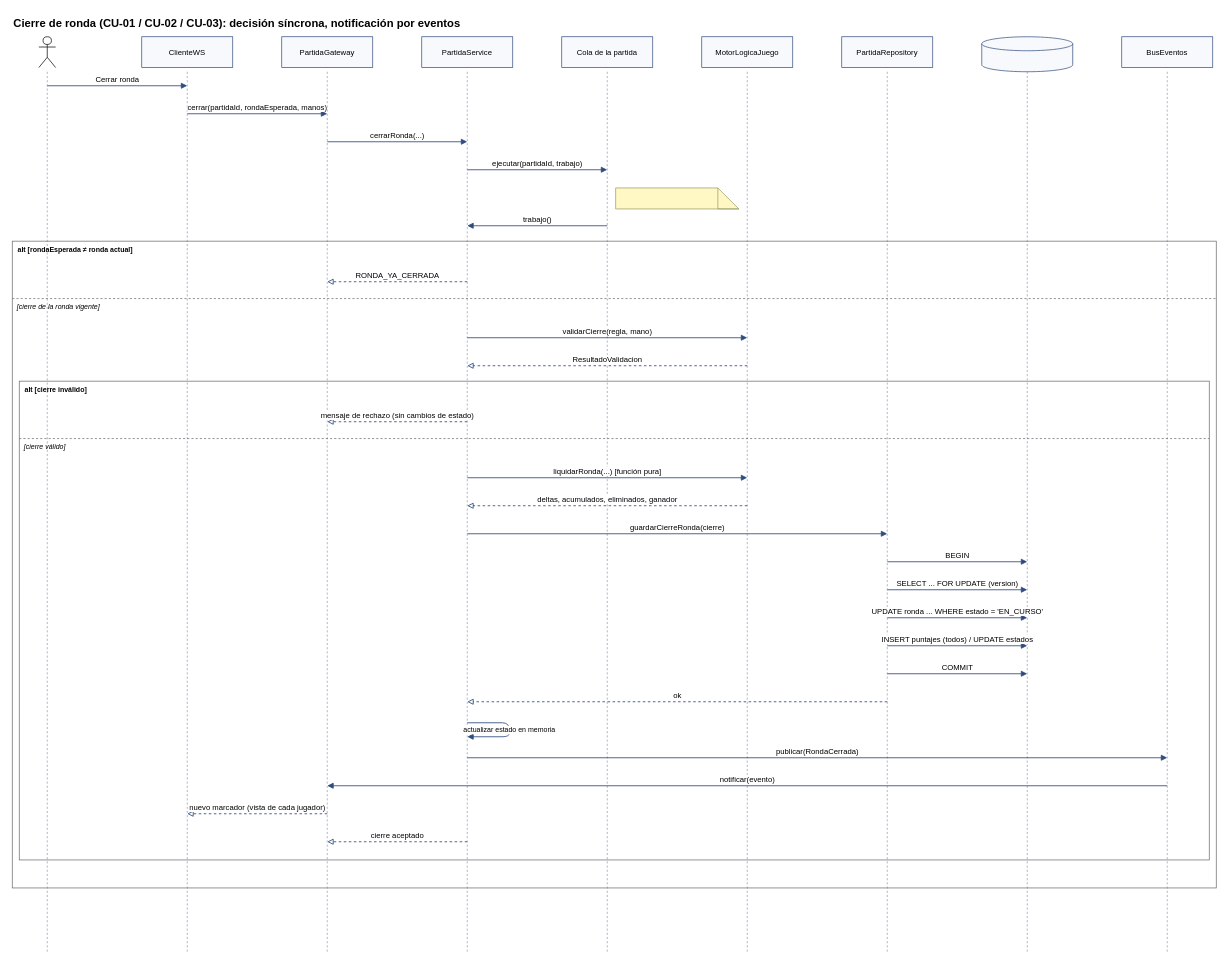
Some shapes in this 1229 by 967 pixel diagram are drawn without their labels. The shapes that lost their labels are listed below. From the top down, each one's centre as x and y in pixels, then its label:
At point 47,52: "Jugador".
At point 1027,54: "PostgreSQL".
At point 677,198: "una sola acción a la vez por partida".
